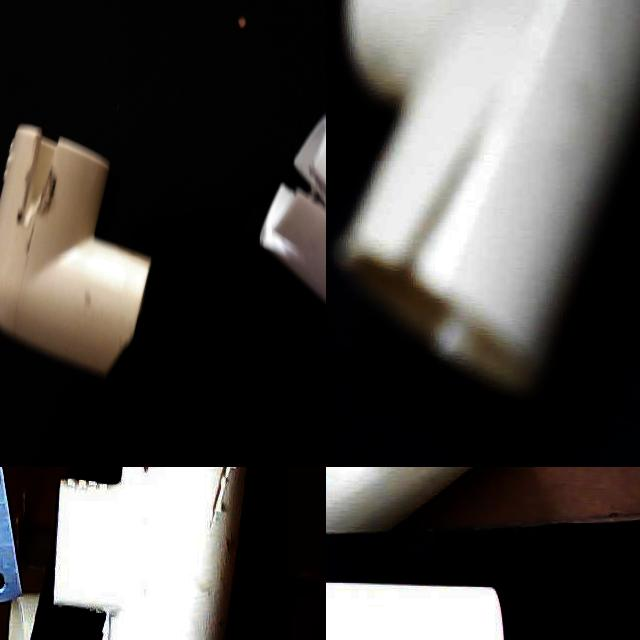Defective: (372, 161, 540, 299), (101, 397, 157, 467), (138, 590, 210, 640), (122, 79, 183, 137), (216, 467, 259, 543), (86, 565, 126, 640), (326, 467, 374, 519), (407, 467, 461, 479)
L Joint: (0, 29, 179, 256), (11, 396, 217, 467)
T Joint: (52, 467, 248, 640)
